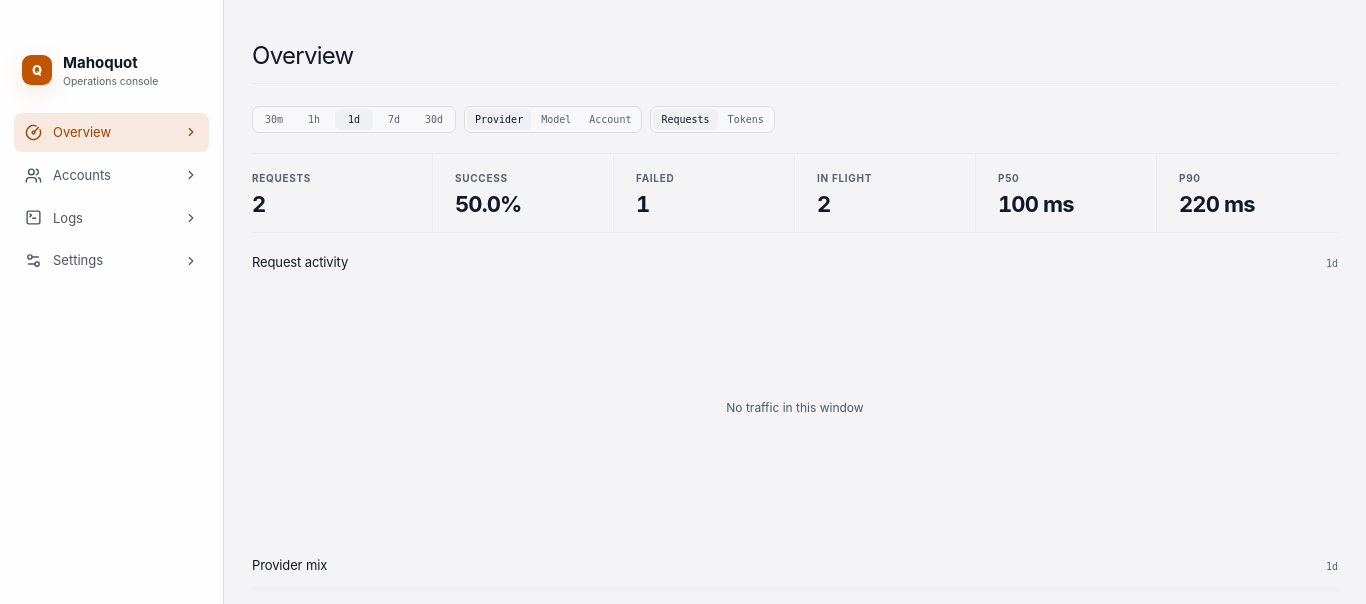
Test: Logs and Settings characterization pin › Settings surface behavior › renders all settings sections: Gateway process, Connection & access, Proxy behavior, Appearance, Advanced YAML
Click the button "Settings": (112, 261) [14,241,209,280]
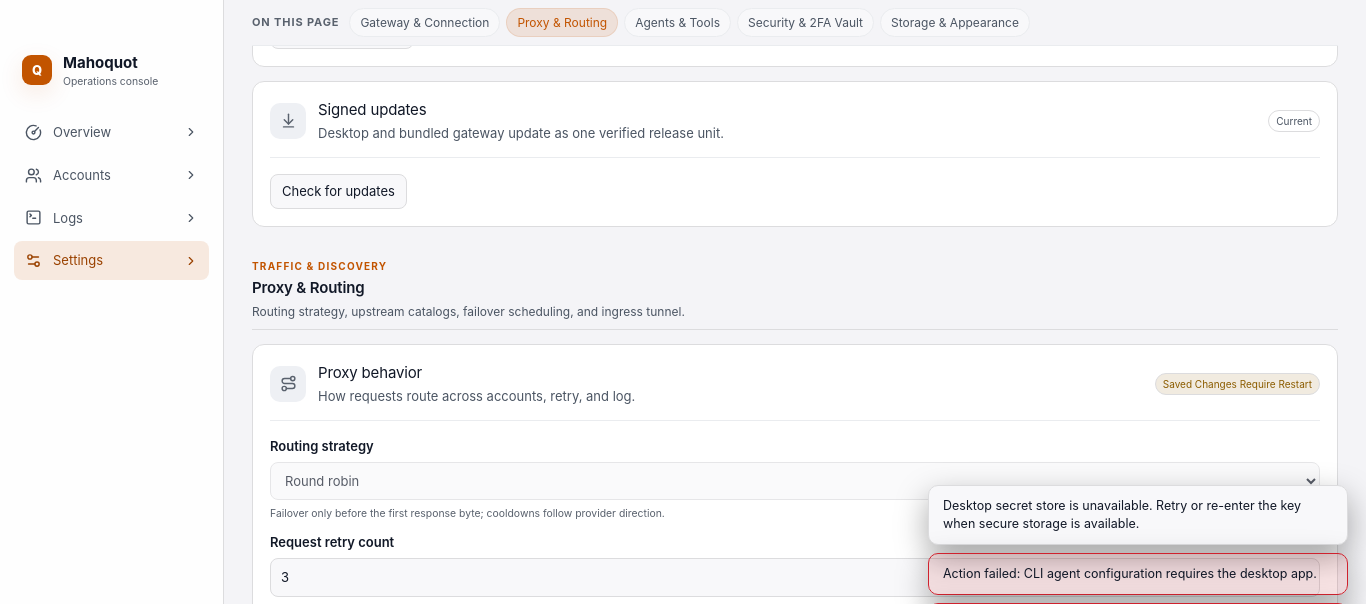
Now the heading "Proxy behavior" is shown, box [318,363,422,382]
Now the text "Saved changes require restart" is shown, box [1155,373,1320,395]
